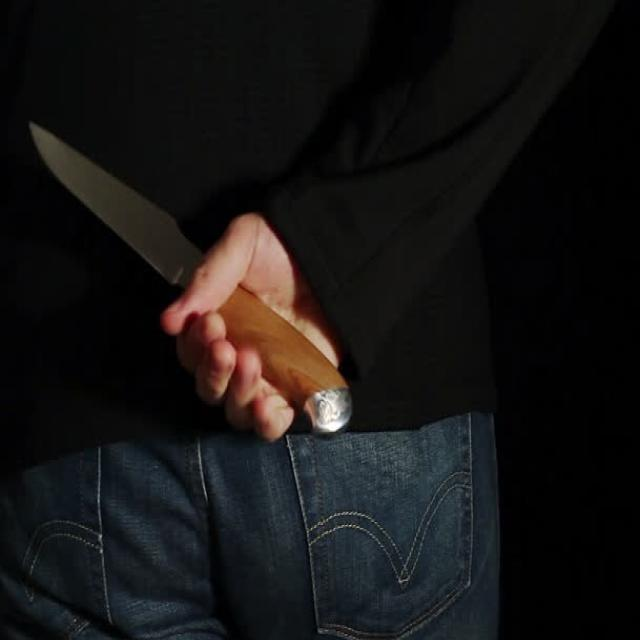knife: (30, 118, 359, 441)
